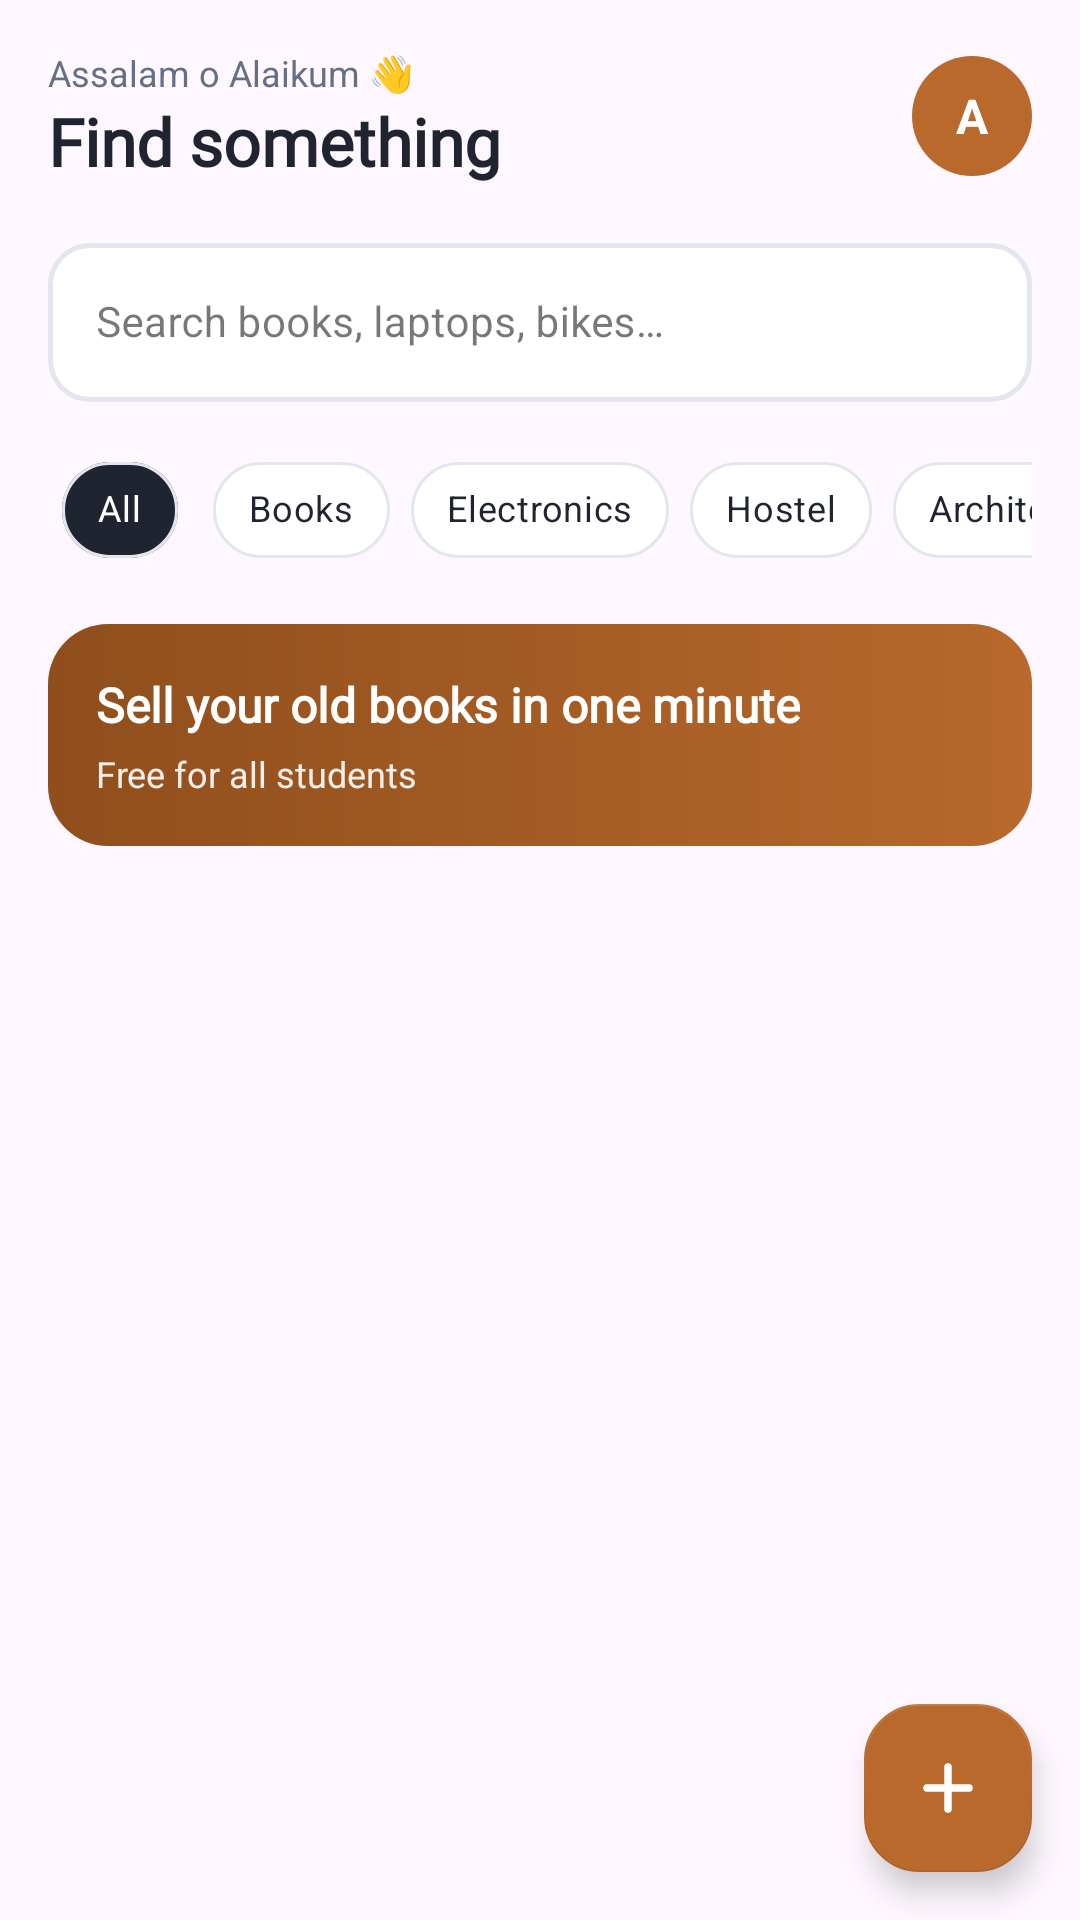

Screen size 1080px×1920px. Icon name, then its box in pixels as (x1, y1, x2, y2):
Post item: (864, 1704, 1032, 1872)
